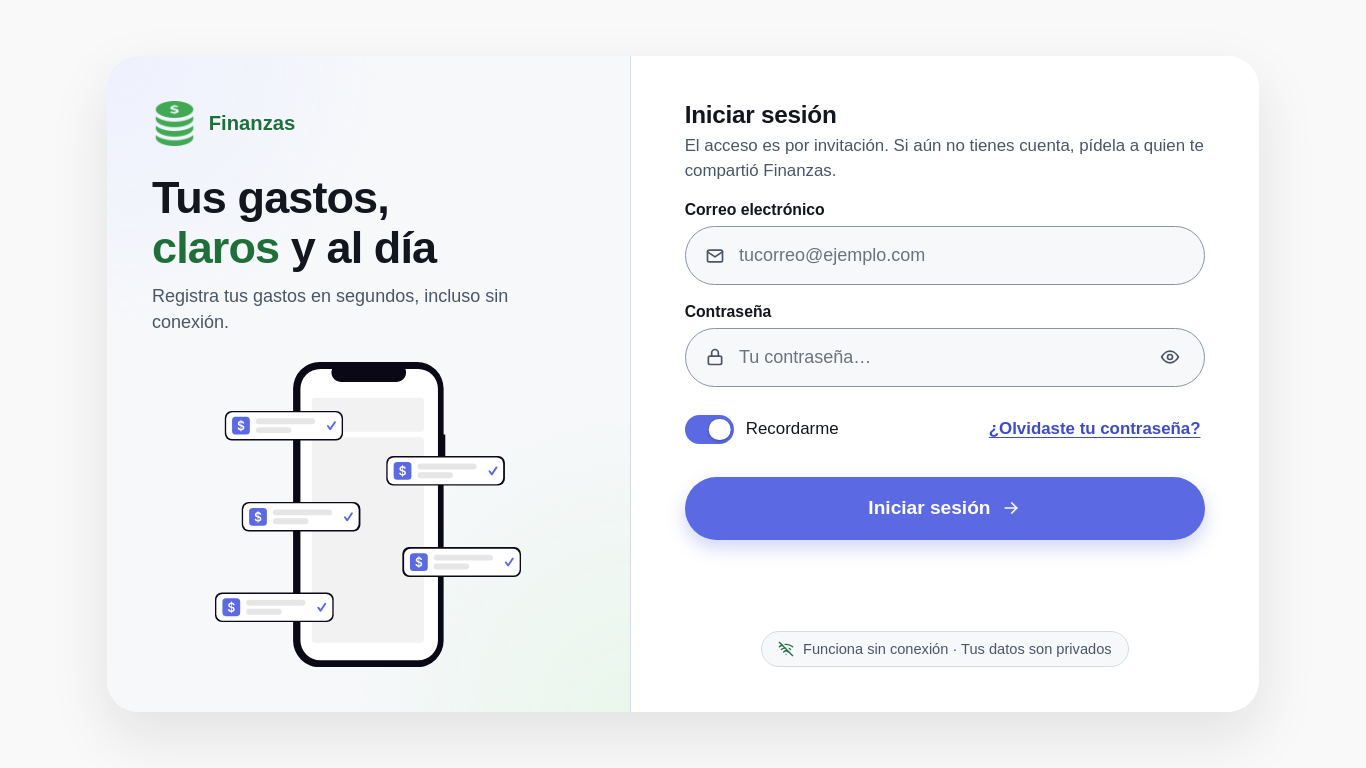
Test: PaginaAuth › iniciar sesión › si Firebase rechaza, muestra el mensaje en español y deja reintentar
In the field labelled "Correo electrónico": (967, 256) left=739, top=228, right=1195, bottom=284, type "ana@correo.co"
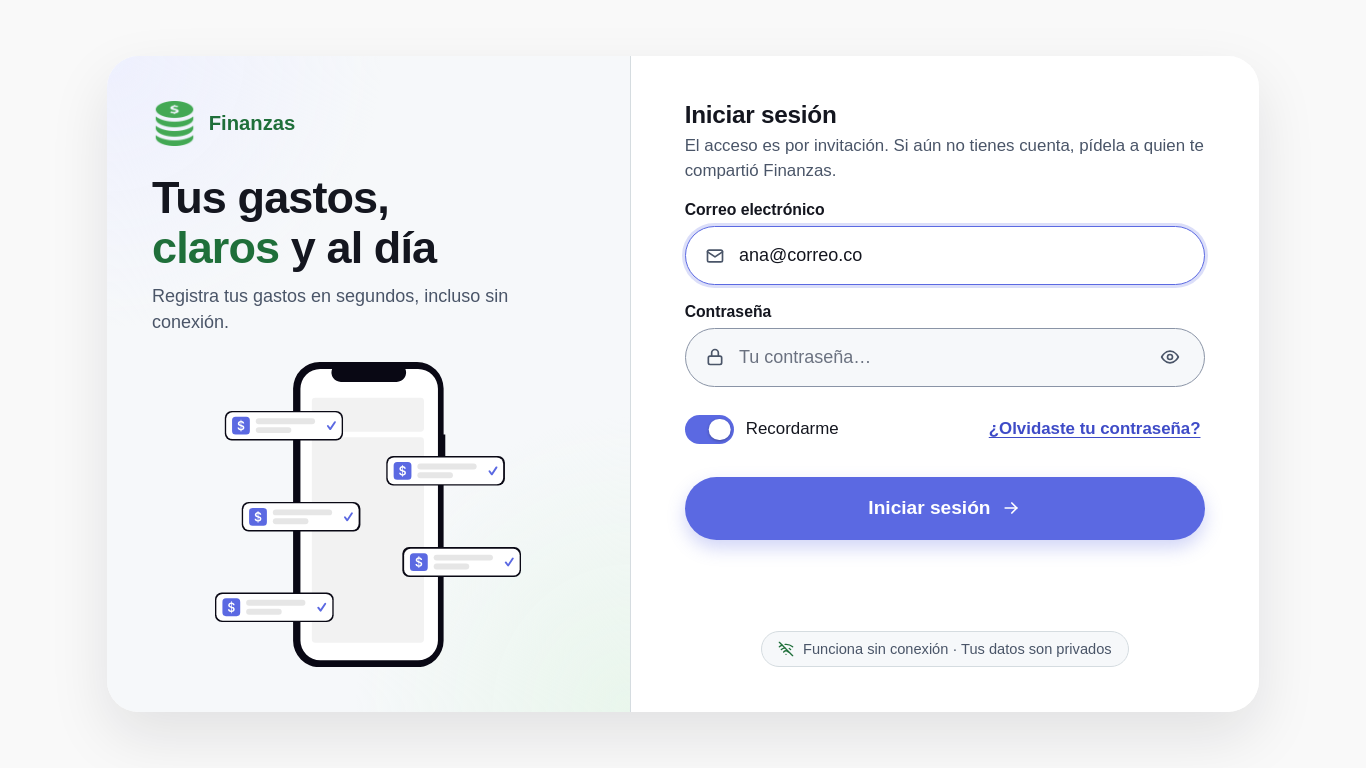
In the password field labelled "Contraseña": (935, 357) left=739, top=330, right=1132, bottom=385, type "mala"
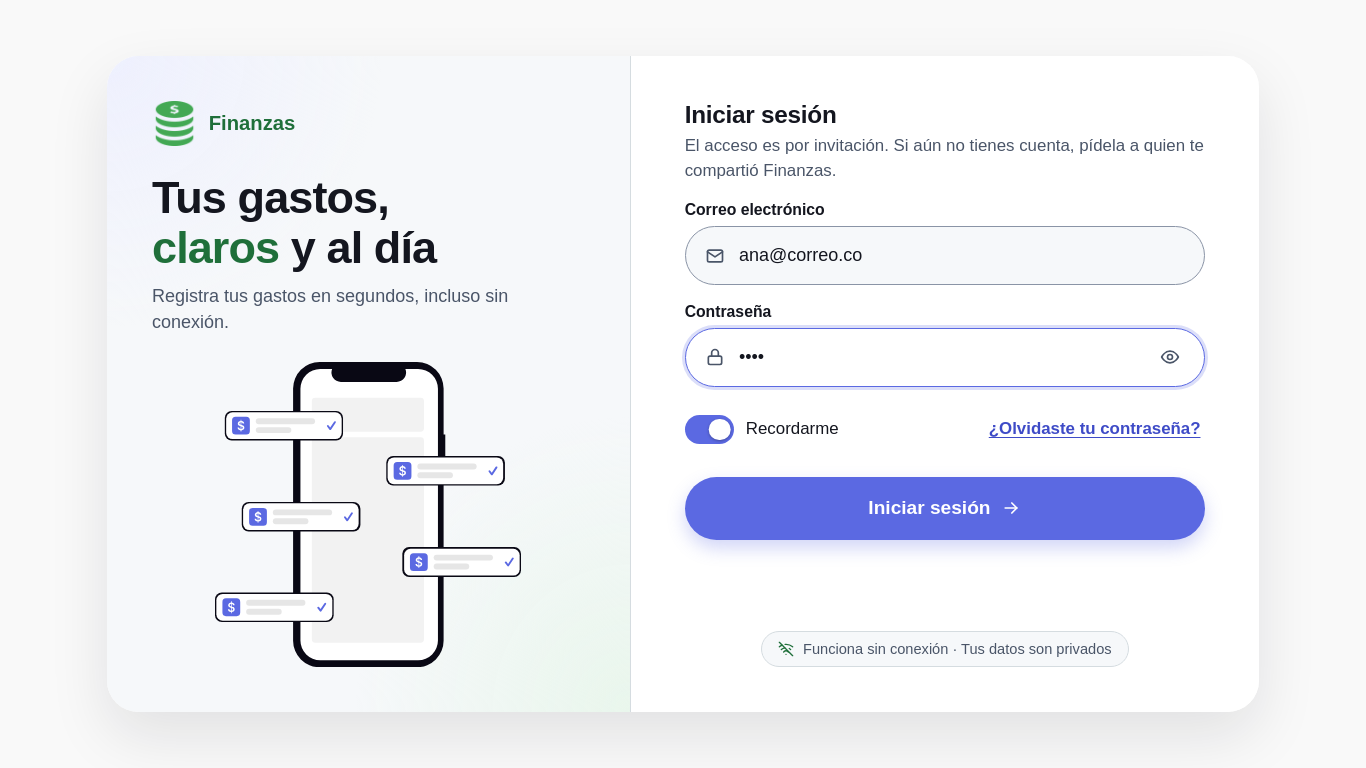
Click the button "Iniciar sesión": (945, 508) left=685, top=477, right=1205, bottom=540
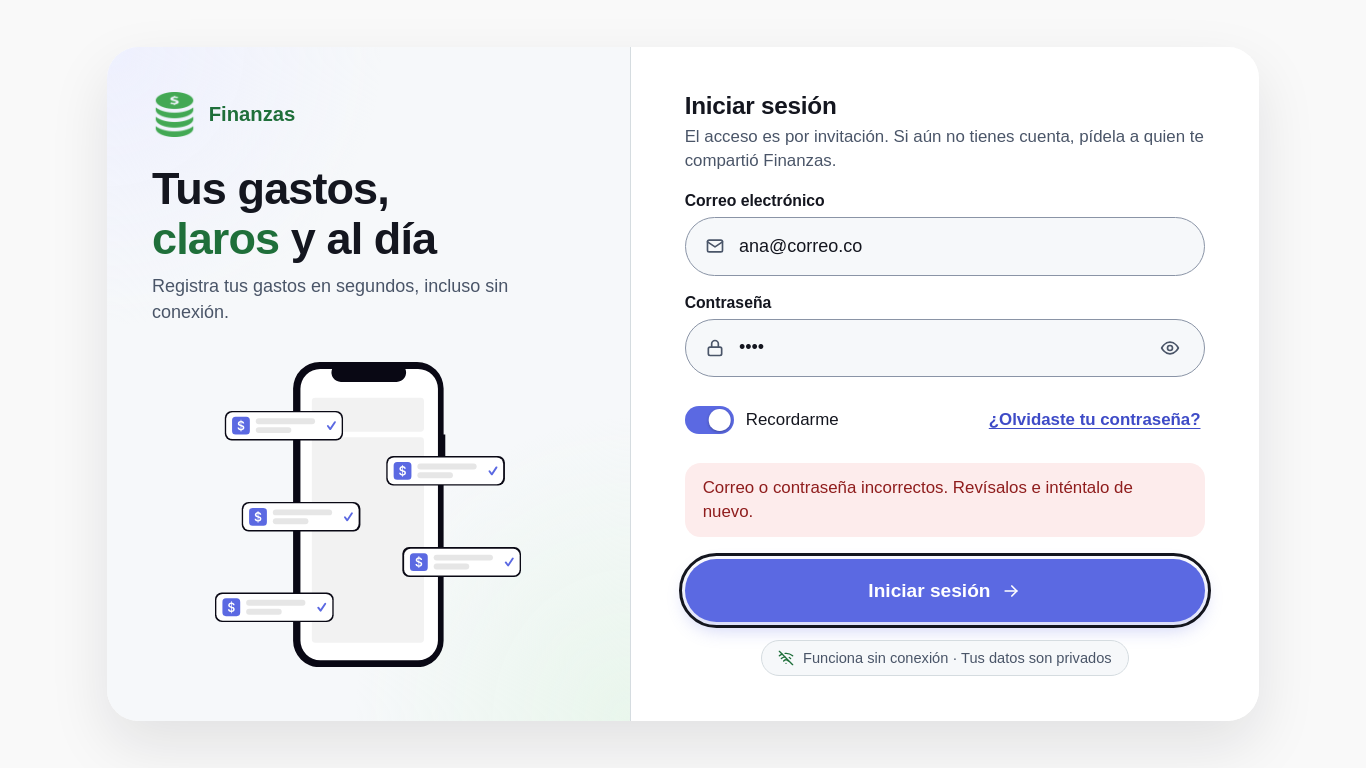
Result: the message shows "Correo o contraseña incorrectos" at left=703, top=478, right=1133, bottom=521
